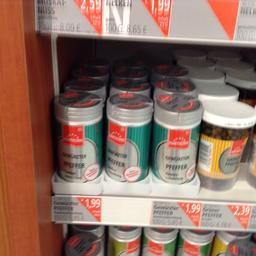spices: (199, 98, 255, 191), (52, 90, 102, 180), (151, 94, 202, 182), (104, 92, 151, 180)
